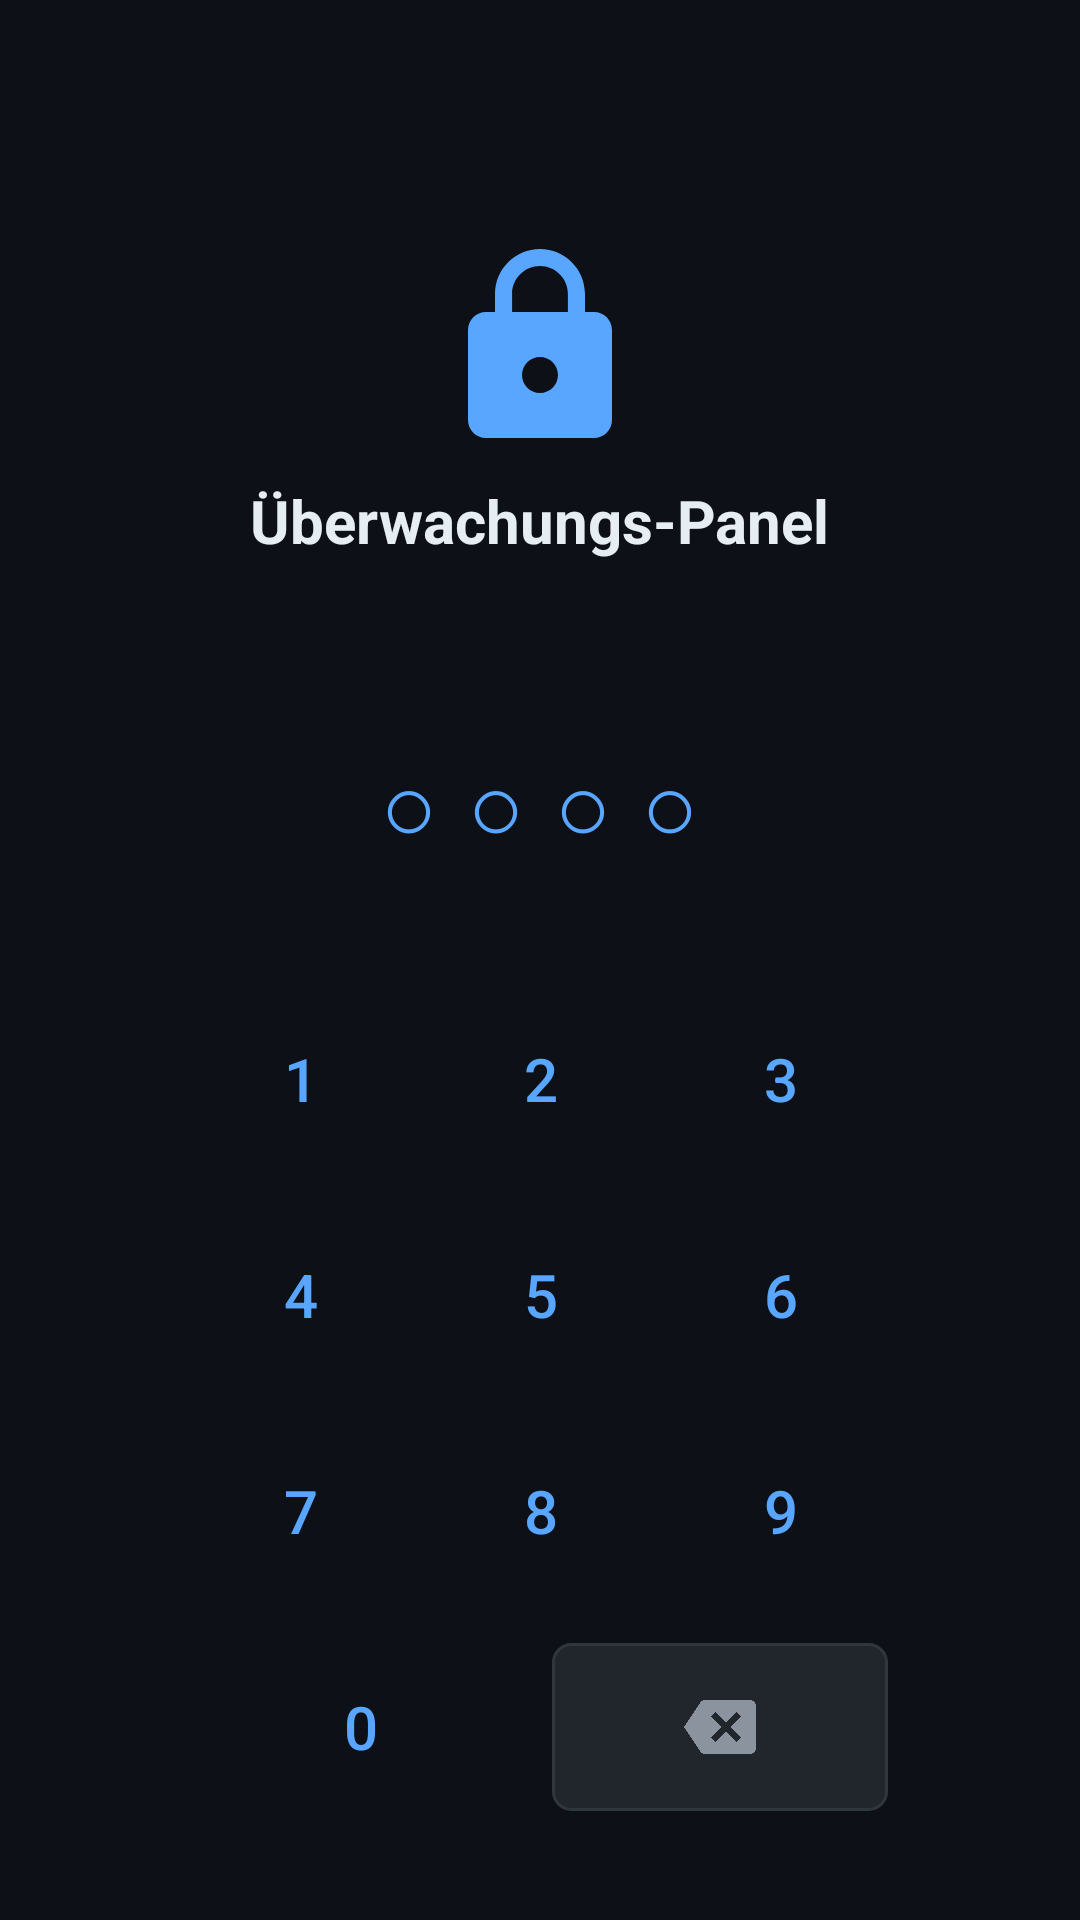

Icons on this 1080w x 1920h Android screen, each with the point to tap as point (x, y):
backspace: point (720, 1727)
lock: point (540, 343)
